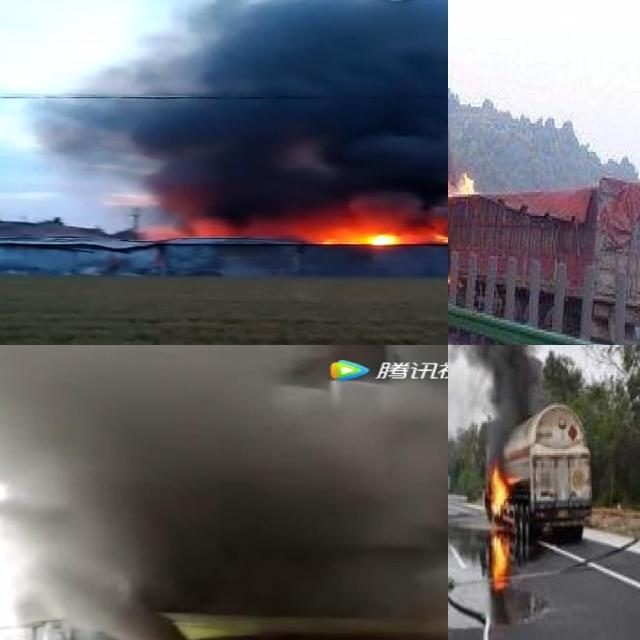fire: (301, 216, 448, 248), (486, 461, 512, 593)
smoke: (0, 346, 448, 640), (92, 0, 448, 211)
